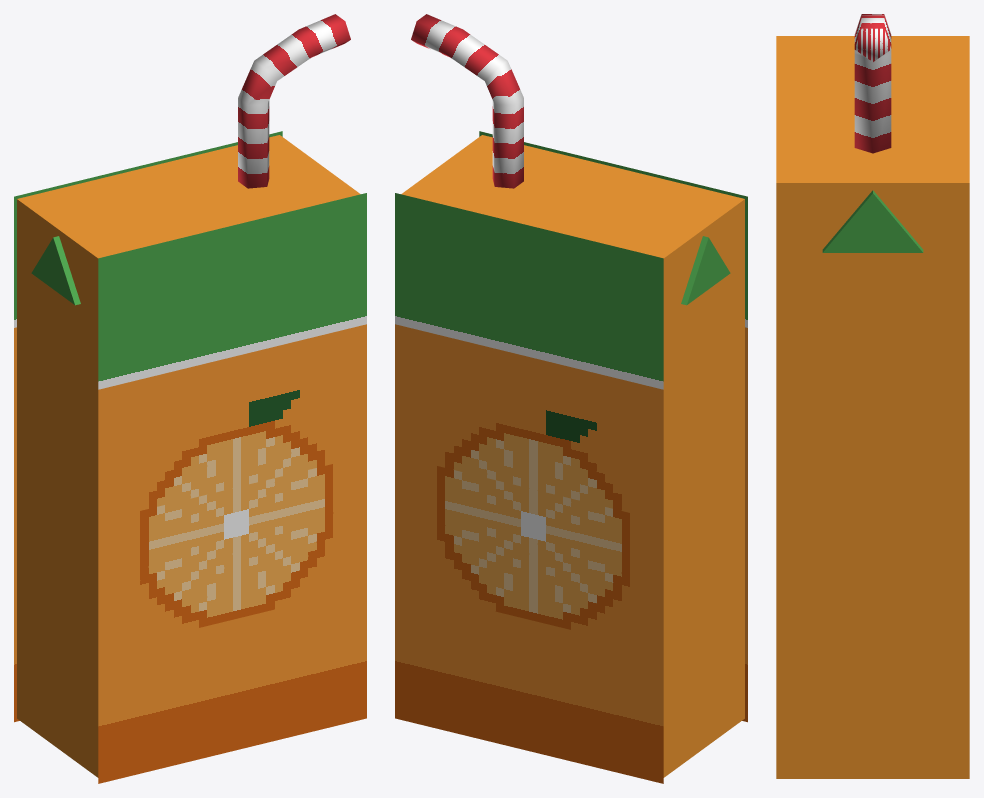
File: drinks-juiceBox.glb
3 views of the same model, side by side, from view 1: azimuth 30°, elevation 25°; view 2: azimuth 150°, elevation 25°; view 3: azimuth 270°, elevation 25° (orthographic). The views are drawn at different scales.
Parts seen in each view (by area): view 1: drinks.juiceBox; view 2: drinks.juiceBox; view 3: drinks.juiceBox.
Part boxes in pixels (x1,y1,x2,y2): drinks.juiceBox: (14,14,366,783); drinks.juiceBox: (395,14,747,783); drinks.juiceBox: (776,14,969,778).
Bounding box in the file's own units: 0.8179 × 1.79 × 0.4097.
Materials: 4 (2 with a texture image).
